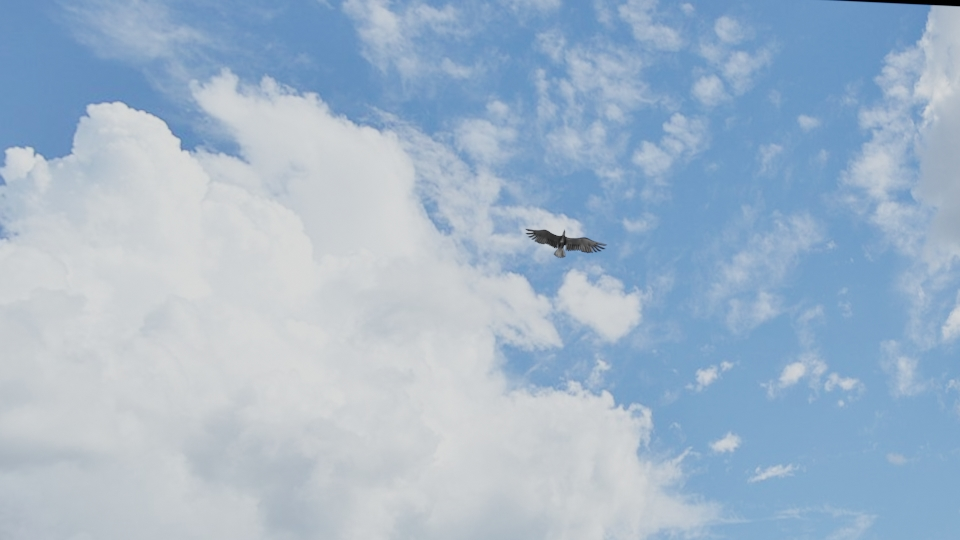bird: (525, 227, 609, 261)
